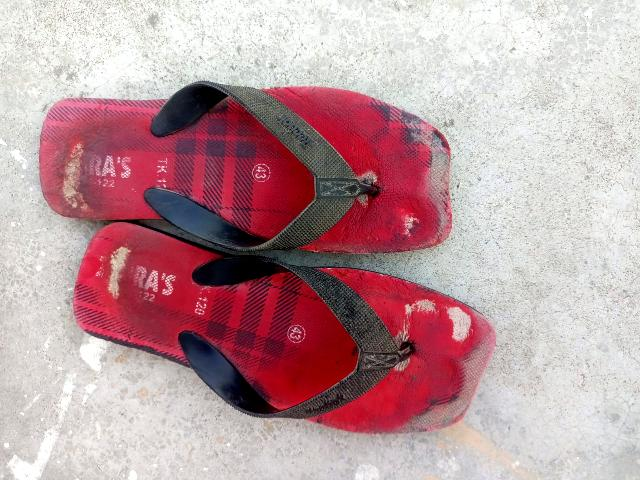sandal: (71, 208, 490, 455), (44, 96, 448, 259)
